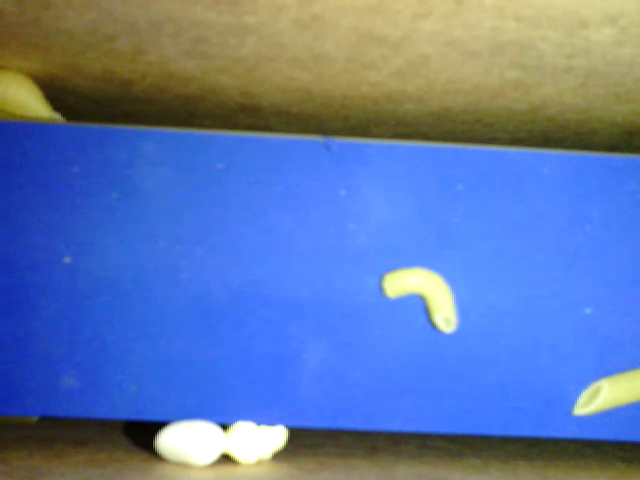elbow: (381, 266, 462, 337)
penne: (574, 367, 639, 419)
